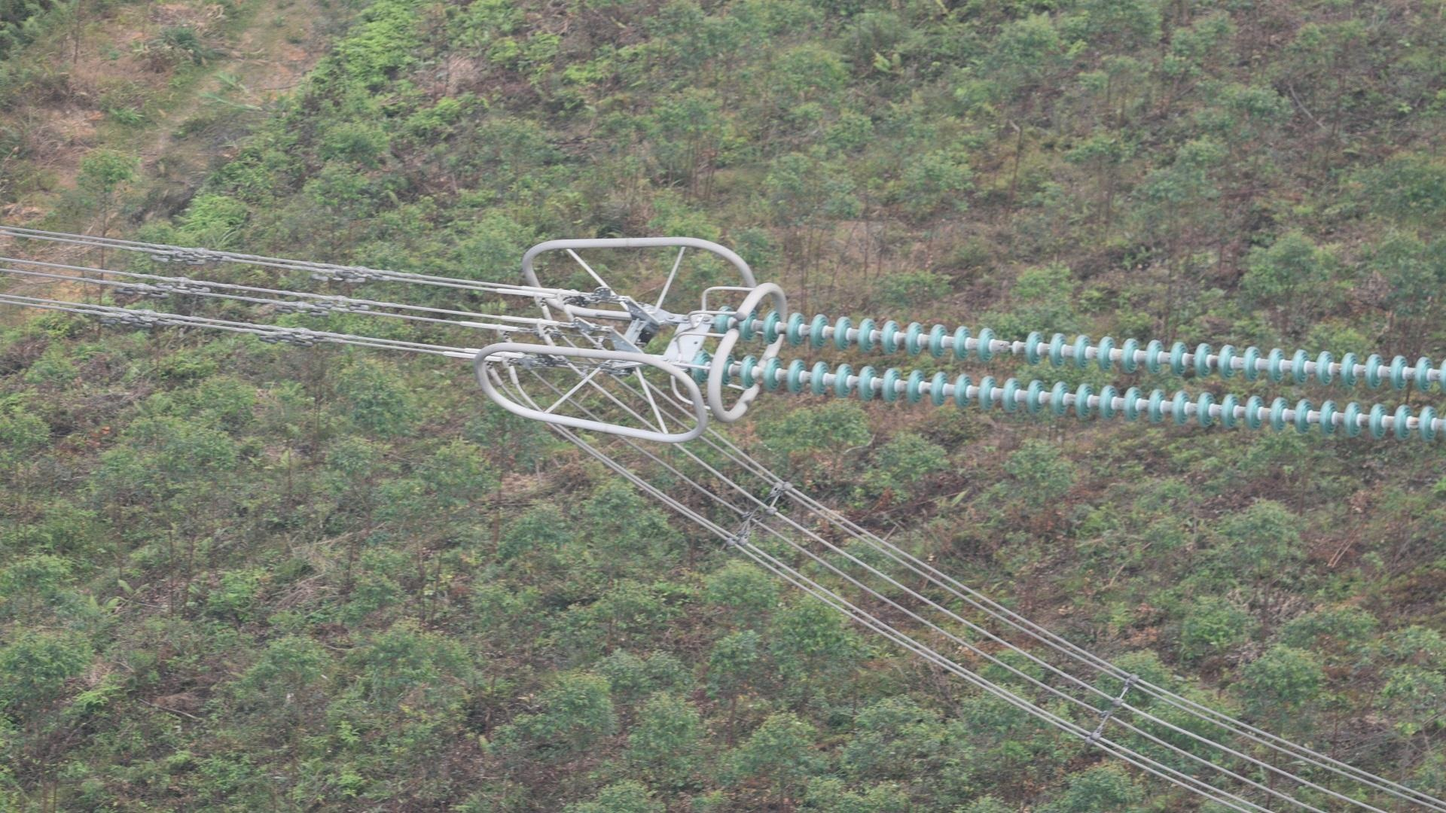insulator: (688, 348, 1441, 449), (706, 306, 1446, 397)
